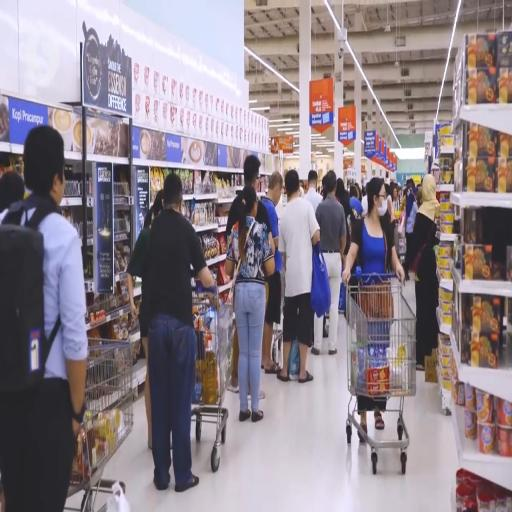shopping_cart: (344, 270, 418, 476), (72, 339, 134, 512), (190, 284, 234, 473)
